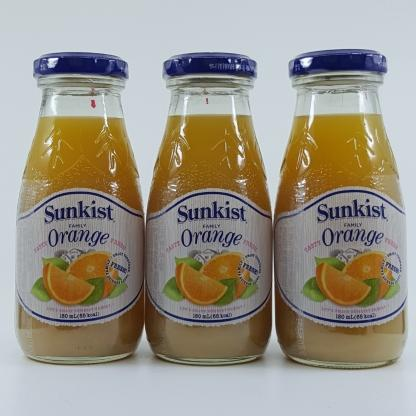----------180ML: (273, 49, 408, 368), (15, 52, 145, 364), (145, 52, 273, 364)
